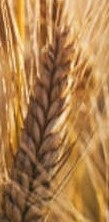Healthy Wheat: (10, 23, 85, 212)
